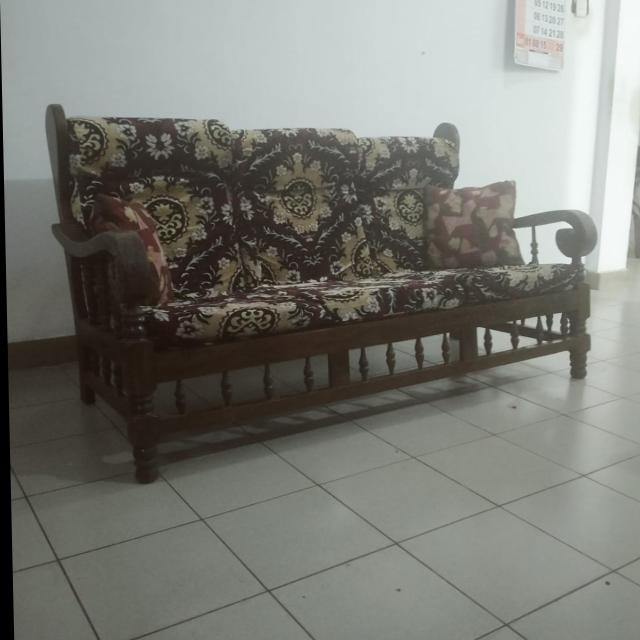Sofa: (43, 103, 601, 483)
